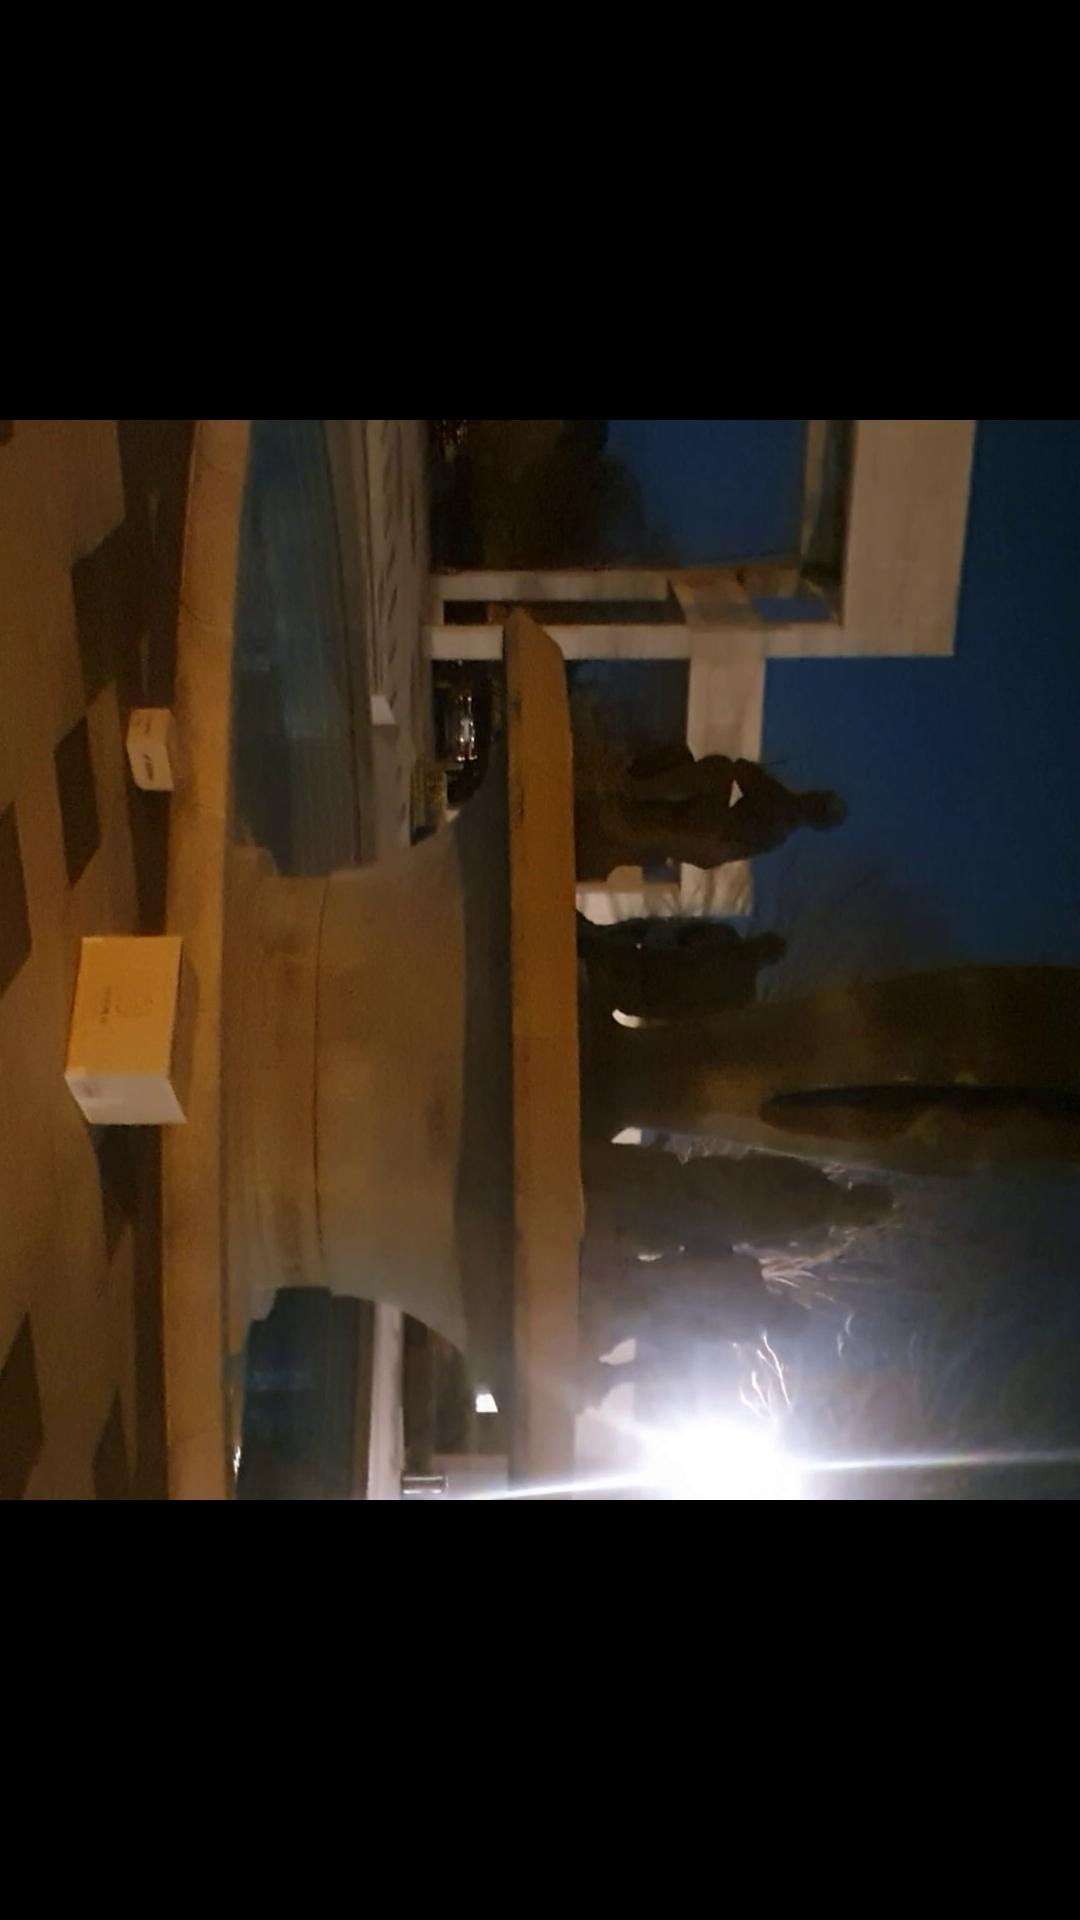Box: (51, 923, 212, 1154), (109, 698, 196, 804)
